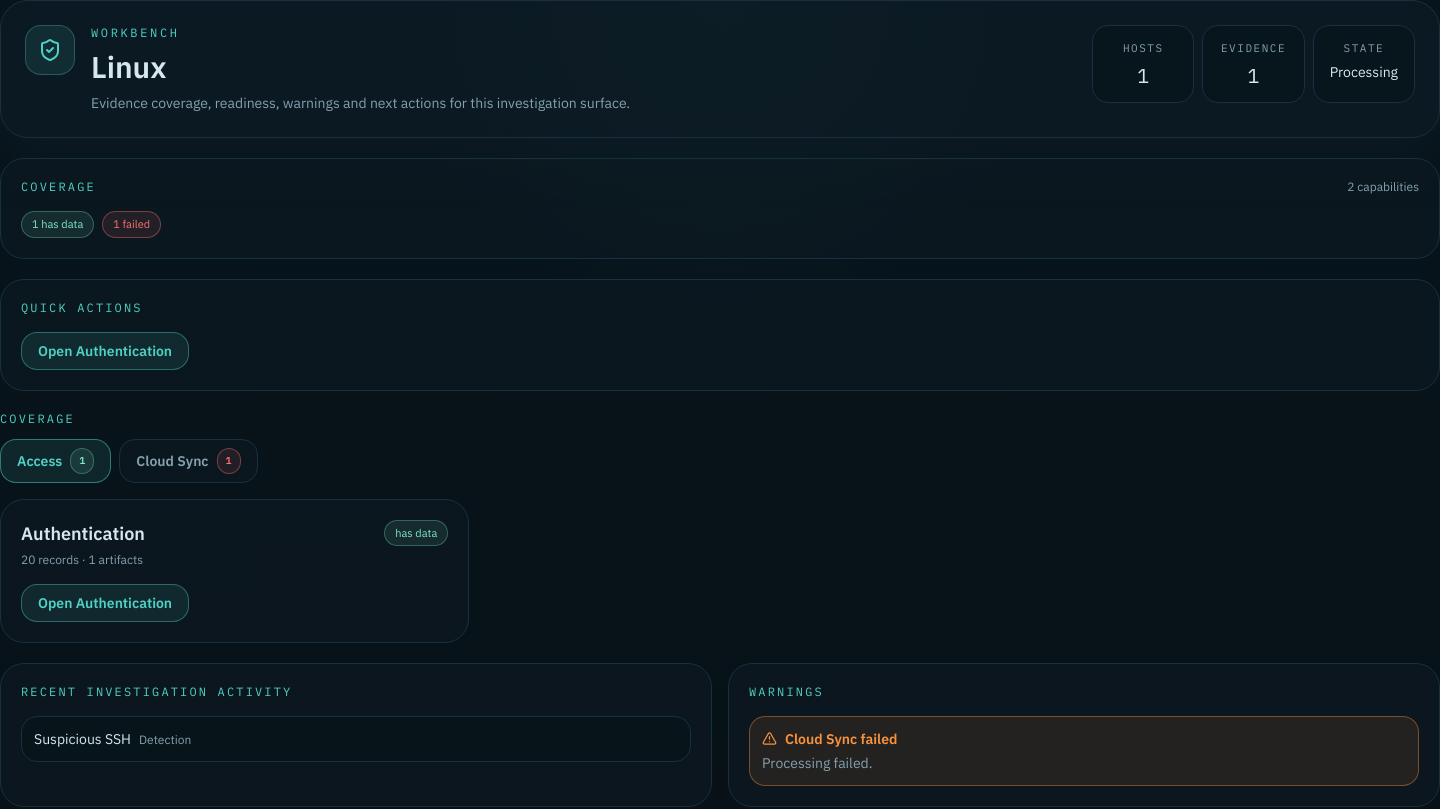
Test case: WorkbenchOverview › renders registry-driven header, warnings, activity and quick actions, with only the default domain's panel mounted
Expected: the heading "Linux" is shown, [91,47,166,86]
Expected: the text "Cloud Sync failed" is shown, [762,730,897,748]
Click the tab "Cloud Sync 1" at (188,460), box [119,438,258,482]
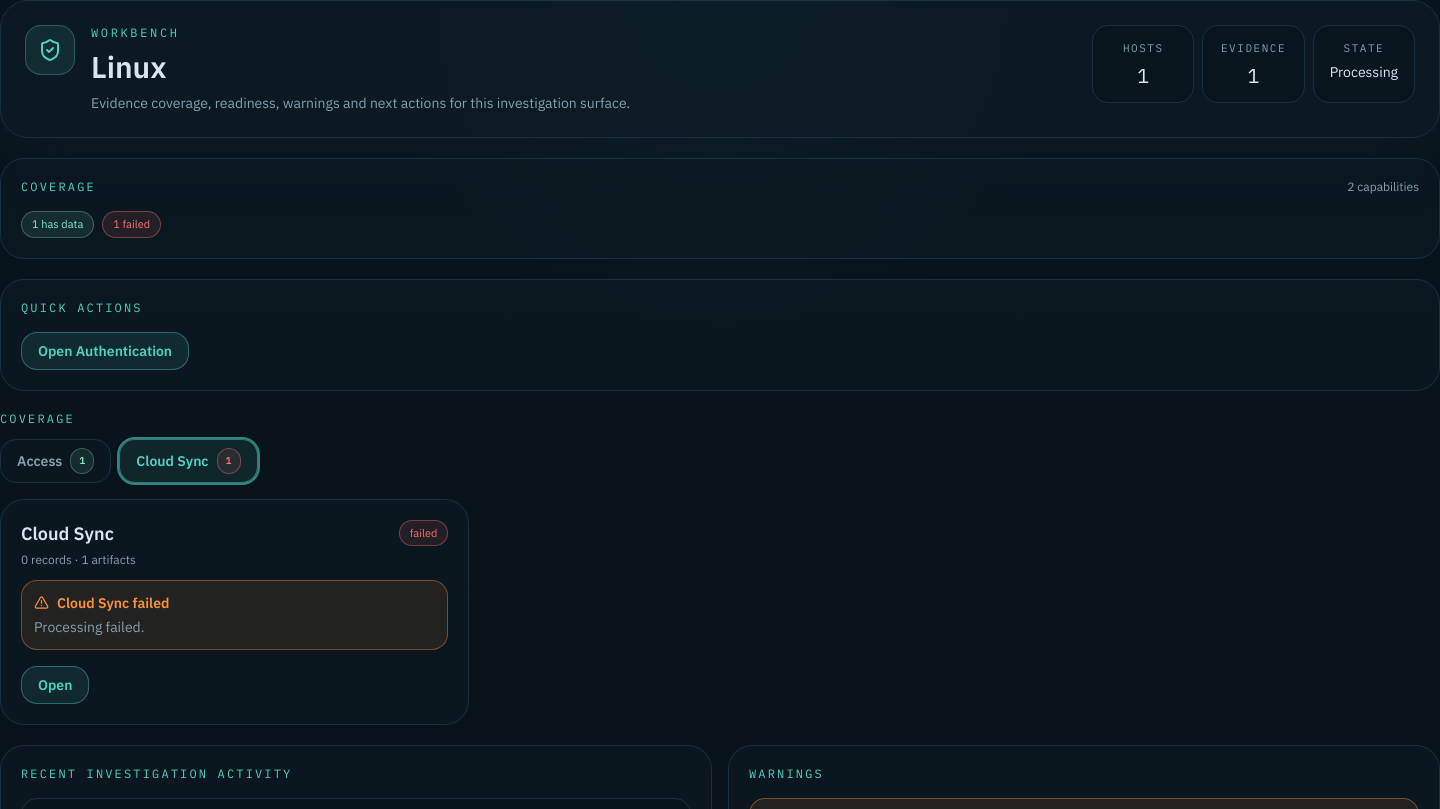
Now the element with test id "capability-future.cloud.sync" shows "Cloud Sync", box [21,522,114,544]
